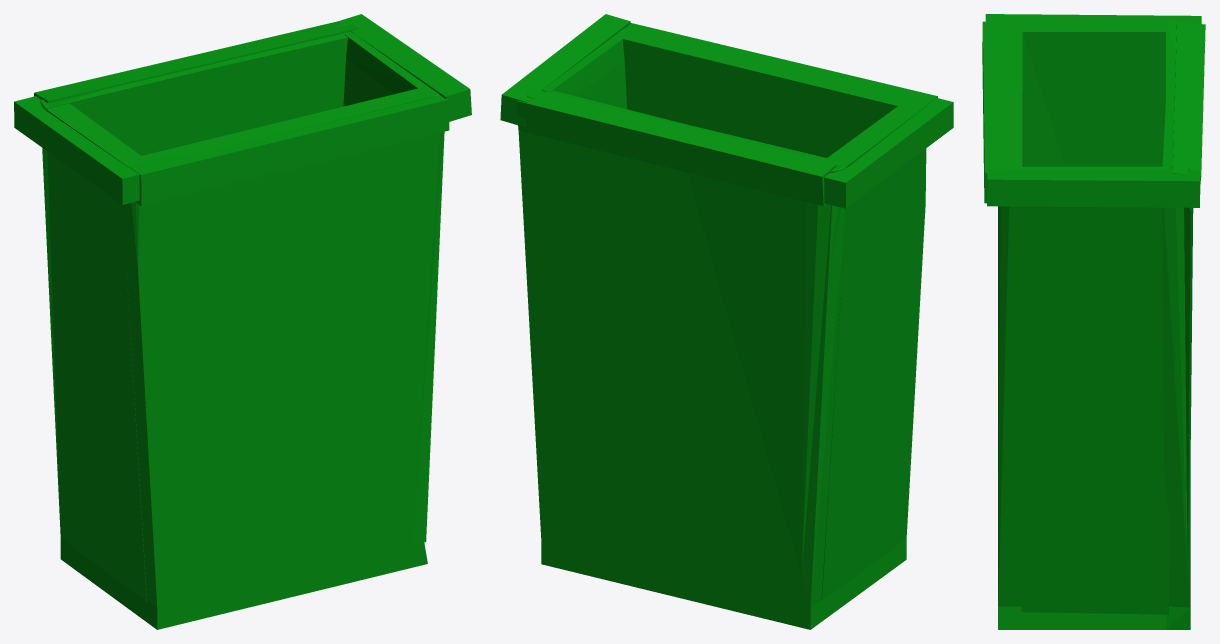
File: bin_green.glb
3 renders of one model, left to right at view 1: azimuth 30°, elevation 25°; view 2: azimuth 150°, elevation 25°; view 3: azimuth 270°, elevation 25°, orthographic.
Parts seen in each view (by area): view 1: group954169556.001; view 2: group954169556.001; view 3: group954169556.001.
Boxes of the visible parts, x1,y1,x2,y2 form: group954169556.001: (14, 14, 471, 629); group954169556.001: (500, 14, 953, 629); group954169556.001: (982, 14, 1205, 629).
Bounding box in the file's own units: 2.66 × 3.41 × 1.48.
